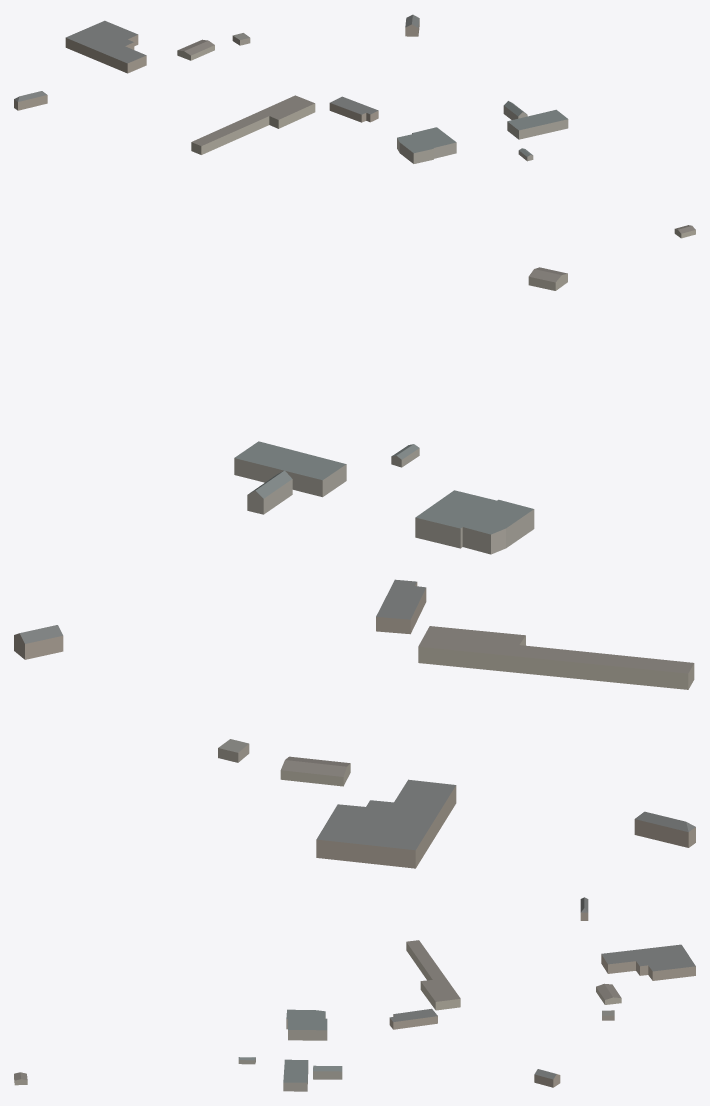
The model's file is 4d82a9f198ca-chunk-1194_11844.glb.
3 views of the same model, one above another, from view 1: azimuth 30°, elevation 25°; view 2: azimuth 150°, elevation 25°; view 3: azimuth 270°, elevation 25° (orthographic). The views are drawn at different scales.
Visible parts, largest first — view 1: building_139689, building_83932, building_103984, building_53493, building_28086, building_34824, building_146165; view 2: building_83932, building_139689, building_103984, building_53493, building_28086, building_34824, building_146165, building_55196, building_120712; view 3: building_139689, building_83932, building_103984, building_53493, building_28086, building_120712, building_34824, building_55196.
Part boxes in pixels (bbox=[...]): building_139689: bbox=[65, 20, 146, 73]; building_83932: bbox=[191, 95, 315, 154]; building_103984: bbox=[397, 127, 456, 163]; building_53493: bbox=[507, 109, 568, 139]; building_28086: bbox=[329, 96, 378, 122]; building_34824: bbox=[177, 39, 214, 60]; building_146165: bbox=[14, 91, 47, 110]; building_83932: bbox=[418, 626, 694, 689]; building_139689: bbox=[316, 779, 456, 868]; building_103984: bbox=[415, 490, 534, 554]; building_53493: bbox=[234, 441, 346, 497]; building_28086: bbox=[376, 579, 426, 634]; building_34824: bbox=[280, 756, 350, 786]; building_146165: bbox=[634, 811, 695, 847]; building_55196: bbox=[14, 625, 63, 659]; building_120712: bbox=[247, 470, 292, 514]; building_139689: bbox=[601, 944, 695, 980]; building_83932: bbox=[406, 940, 460, 1010]; building_103984: bbox=[286, 1009, 327, 1040]; building_53493: bbox=[283, 1059, 308, 1091]; building_28086: bbox=[389, 1008, 437, 1029]; building_120712: bbox=[313, 1065, 342, 1079]; building_34824: bbox=[596, 983, 621, 1004]; building_55196: bbox=[534, 1069, 560, 1087].
Bounding box in the file's own units: 259 × 7.6 × 405.
